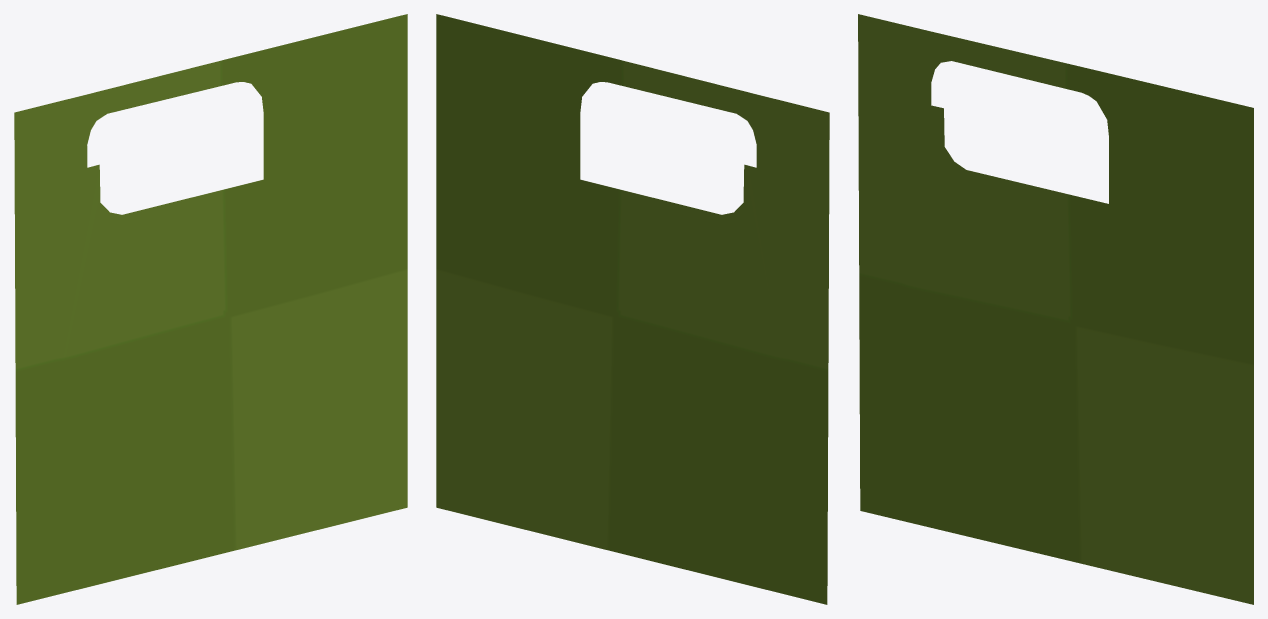
File: DiMian1_2Mo.fbx
3 renders of one model, left to right at view 1: azimuth 30°, elevation 25°; view 2: azimuth 150°, elevation 25°; view 3: azimuth 330°, elevation 25°, orthographic.
Visible parts, largest first — view 1: 对象003; view 2: 对象003; view 3: 对象003.
Part boxes in pixels (x1,y1,x2,y2): 对象003: (14,14,407,604); 对象003: (436,14,829,604); 对象003: (858,14,1253,604).
Bounding box in the file's own units: 26708 × 32164 × 0.0927.
1 material, 1 textured.
